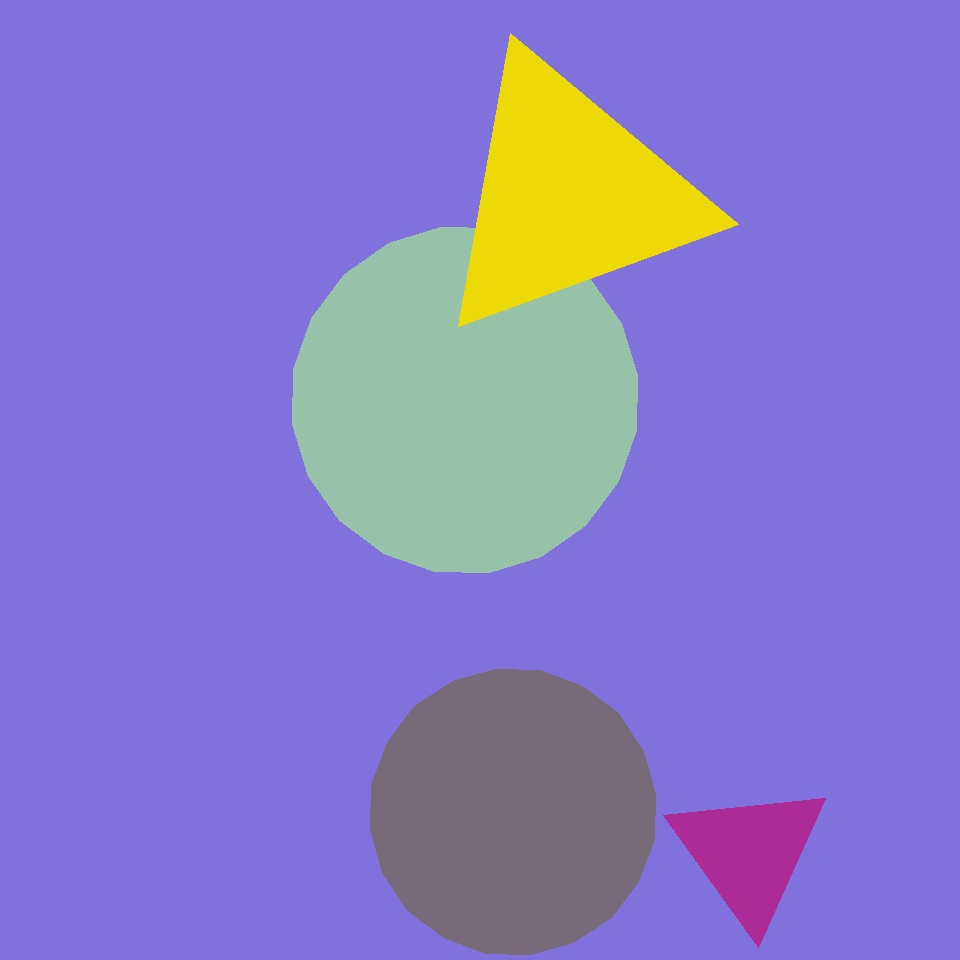circle: (429, 48, 709, 342), (668, 779, 830, 928)
square: (210, 170, 308, 268)
triangle: (292, 228, 638, 573), (9, 80, 322, 393), (371, 670, 656, 954)
